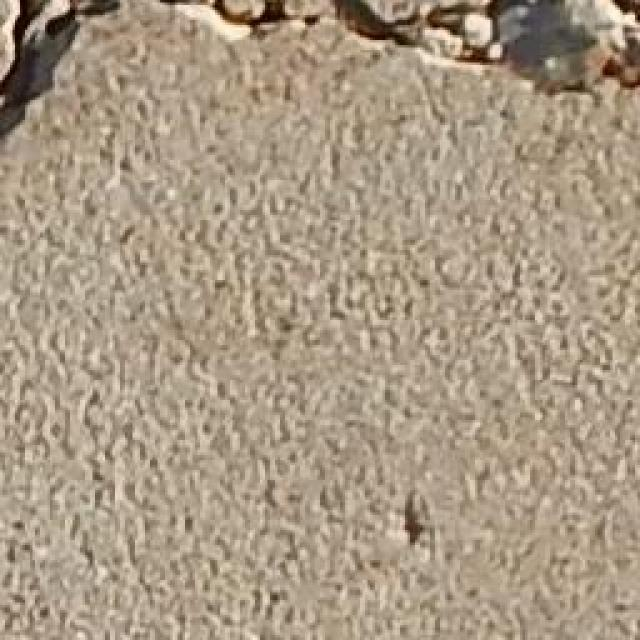concrete-crack: (0, 0, 640, 141)
